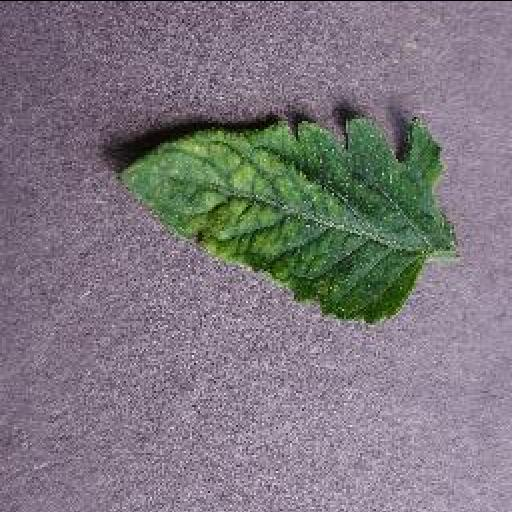disease_tomato: (110, 112, 450, 326)
